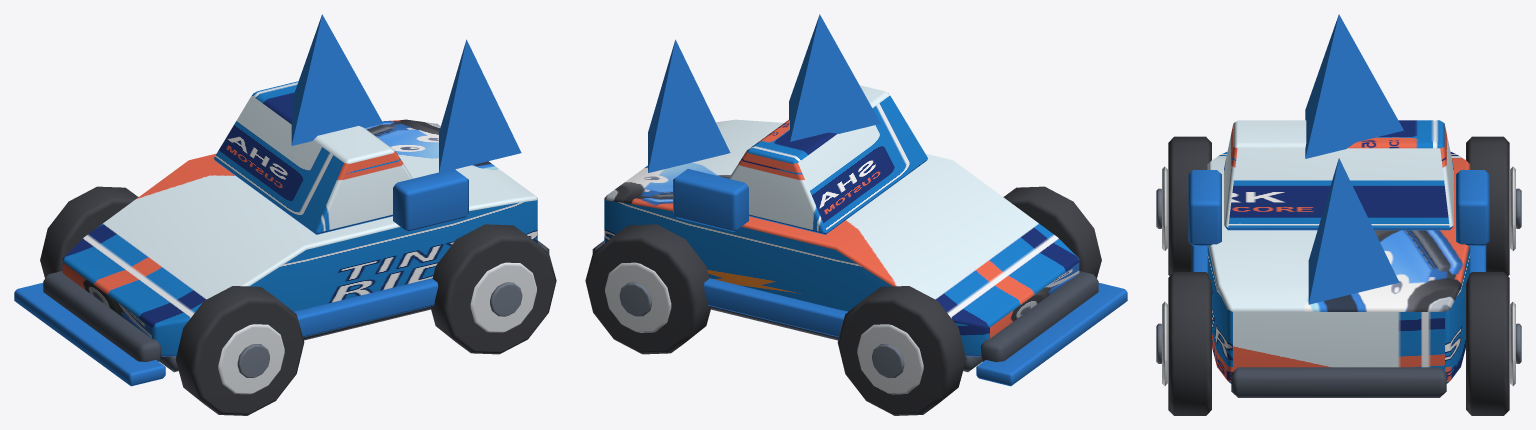
3 renders of one model, left to right at view 1: azimuth 30°, elevation 25°; view 2: azimuth 150°, elevation 25°; view 3: azimuth 270°, elevation 25°, orthographic. The views are drawn at different scales.
Visible parts, largest first — view 1: CR-01_connected_shell, CR-01_cabin, Tire, Tire.002, dorsal fin, shark tail upper fin, custom chin, custom side guard, custom side fin, Tire.001, front bumper, Rim (+4 smaller); view 2: CR-01_connected_shell, CR-01_cabin, Tire.001, Tire.003, dorsal fin, shark tail upper fin, custom chin, custom side guard.001, custom side fin.001, Tire, front bumper, Rim.001 (+4 smaller); view 3: CR-01_connected_shell, CR-01_cabin, dorsal fin, shark tail upper fin, rear bumper, Tire.002, Tire.003, Tire, Tire.001, custom side fin, custom side fin.001, Rim (+5 smaller).
Boxes of the visible parts, x1=… form: CR-01_connected_shell: x1=62, y1=119, x2=537, y2=356; CR-01_cabin: x1=214, y1=81, x2=412, y2=234; Tire: x1=175, y1=286, x2=304, y2=415; Tire.002: x1=430, y1=224, x2=556, y2=354; dorsal fin: x1=291, y1=14, x2=383, y2=145; shark tail upper fin: x1=439, y1=39, x2=521, y2=172; custom chin: x1=14, y1=283, x2=165, y2=386; custom side guard: x1=294, y1=278, x2=438, y2=337; custom side fin: x1=393, y1=169, x2=468, y2=231; Tire.001: x1=40, y1=186, x2=138, y2=278; front bumper: x1=43, y1=271, x2=161, y2=361; Rim: x1=218, y1=324, x2=284, y2=394; CR-01_connected_shell: x1=604, y1=119, x2=1079, y2=356; CR-01_cabin: x1=729, y1=85, x2=927, y2=234; Tire.001: x1=837, y1=286, x2=966, y2=415; Tire.003: x1=585, y1=224, x2=711, y2=354; dorsal fin: x1=789, y1=14, x2=880, y2=141; shark tail upper fin: x1=648, y1=39, x2=730, y2=172; custom chin: x1=976, y1=283, x2=1127, y2=386; custom side guard.001: x1=703, y1=278, x2=847, y2=337; custom side fin.001: x1=673, y1=169, x2=748, y2=231; Tire: x1=1003, y1=186, x2=1101, y2=278; front bumper: x1=980, y1=271, x2=1098, y2=361; Rim.001: x1=857, y1=324, x2=923, y2=394; CR-01_connected_shell: x1=1207, y1=152, x2=1470, y2=383; CR-01_cabin: x1=1224, y1=120, x2=1453, y2=230; dorsal fin: x1=1305, y1=14, x2=1403, y2=158; shark tail upper fin: x1=1308, y1=158, x2=1399, y2=304; rear bumper: x1=1231, y1=367, x2=1446, y2=397; Tire.002: x1=1168, y1=272, x2=1211, y2=415; Tire.003: x1=1466, y1=272, x2=1509, y2=415; Tire: x1=1168, y1=136, x2=1211, y2=275; Tire.001: x1=1466, y1=136, x2=1509, y2=275; custom side fin: x1=1188, y1=170, x2=1221, y2=246; custom side fin.001: x1=1456, y1=170, x2=1489, y2=246; Rim: x1=1162, y1=166, x2=1167, y2=250.
Bounding box in the file's own units: 329 × 224 × 217.
